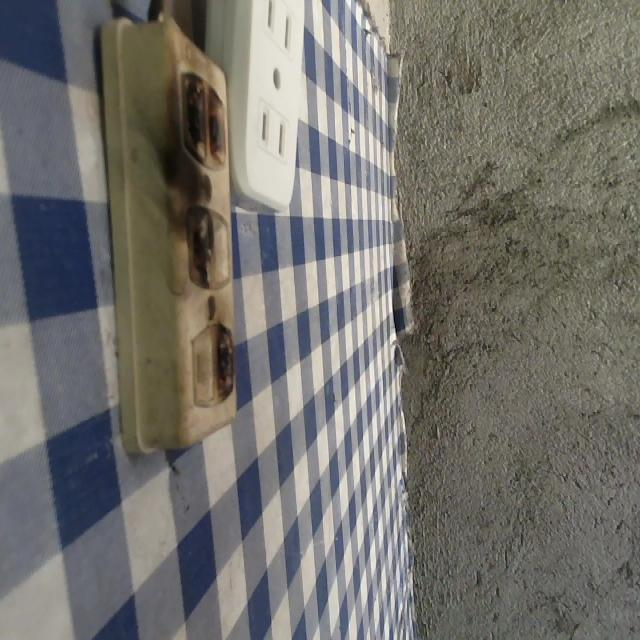-: (171, 63, 244, 178), (172, 193, 218, 299), (206, 309, 247, 415)
